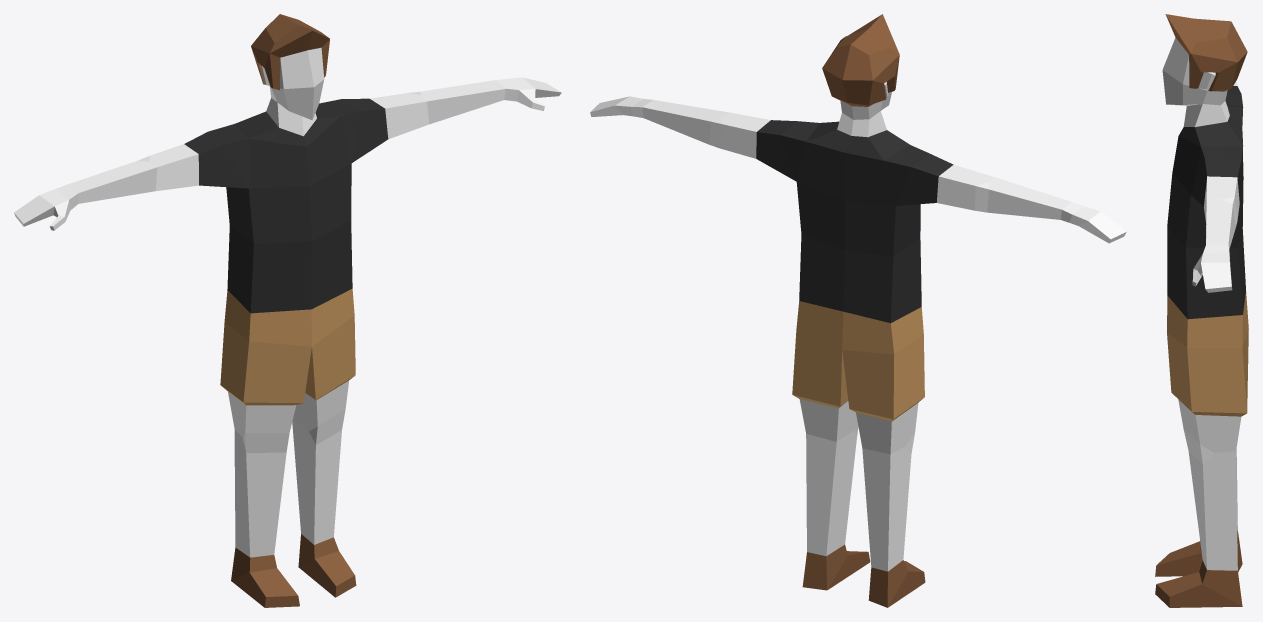
The model's file is bald.gltf.
The picture shows the model from 3 angles, left to right: view 1: azimuth 30°, elevation 25°; view 2: azimuth 150°, elevation 25°; view 3: azimuth 270°, elevation 25°; orthographic projection. The views are drawn at different scales.
Parts seen in each view (by area): view 1: man-casual_Rig; view 2: man-casual_Rig; view 3: man-casual_Rig.
Part boxes in pixels (bbox=[...]): man-casual_Rig: bbox=[14, 14, 561, 607]; man-casual_Rig: bbox=[590, 14, 1126, 607]; man-casual_Rig: bbox=[1155, 14, 1248, 607].
Size of the model in its own units: 1.83 by 1.84 by 0.2741.
